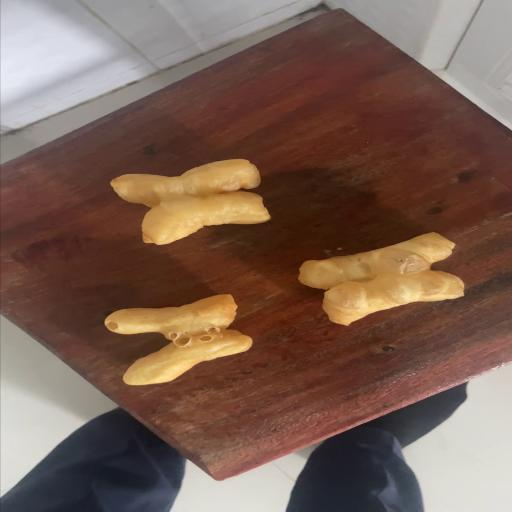street_golden_defect: (300, 234, 462, 325), (104, 296, 252, 384)
street_golden_good: (111, 159, 271, 243)
